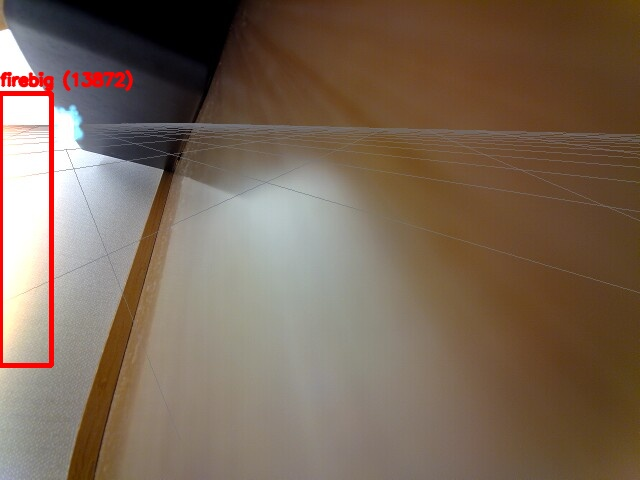firebig: (0, 93, 51, 365)
